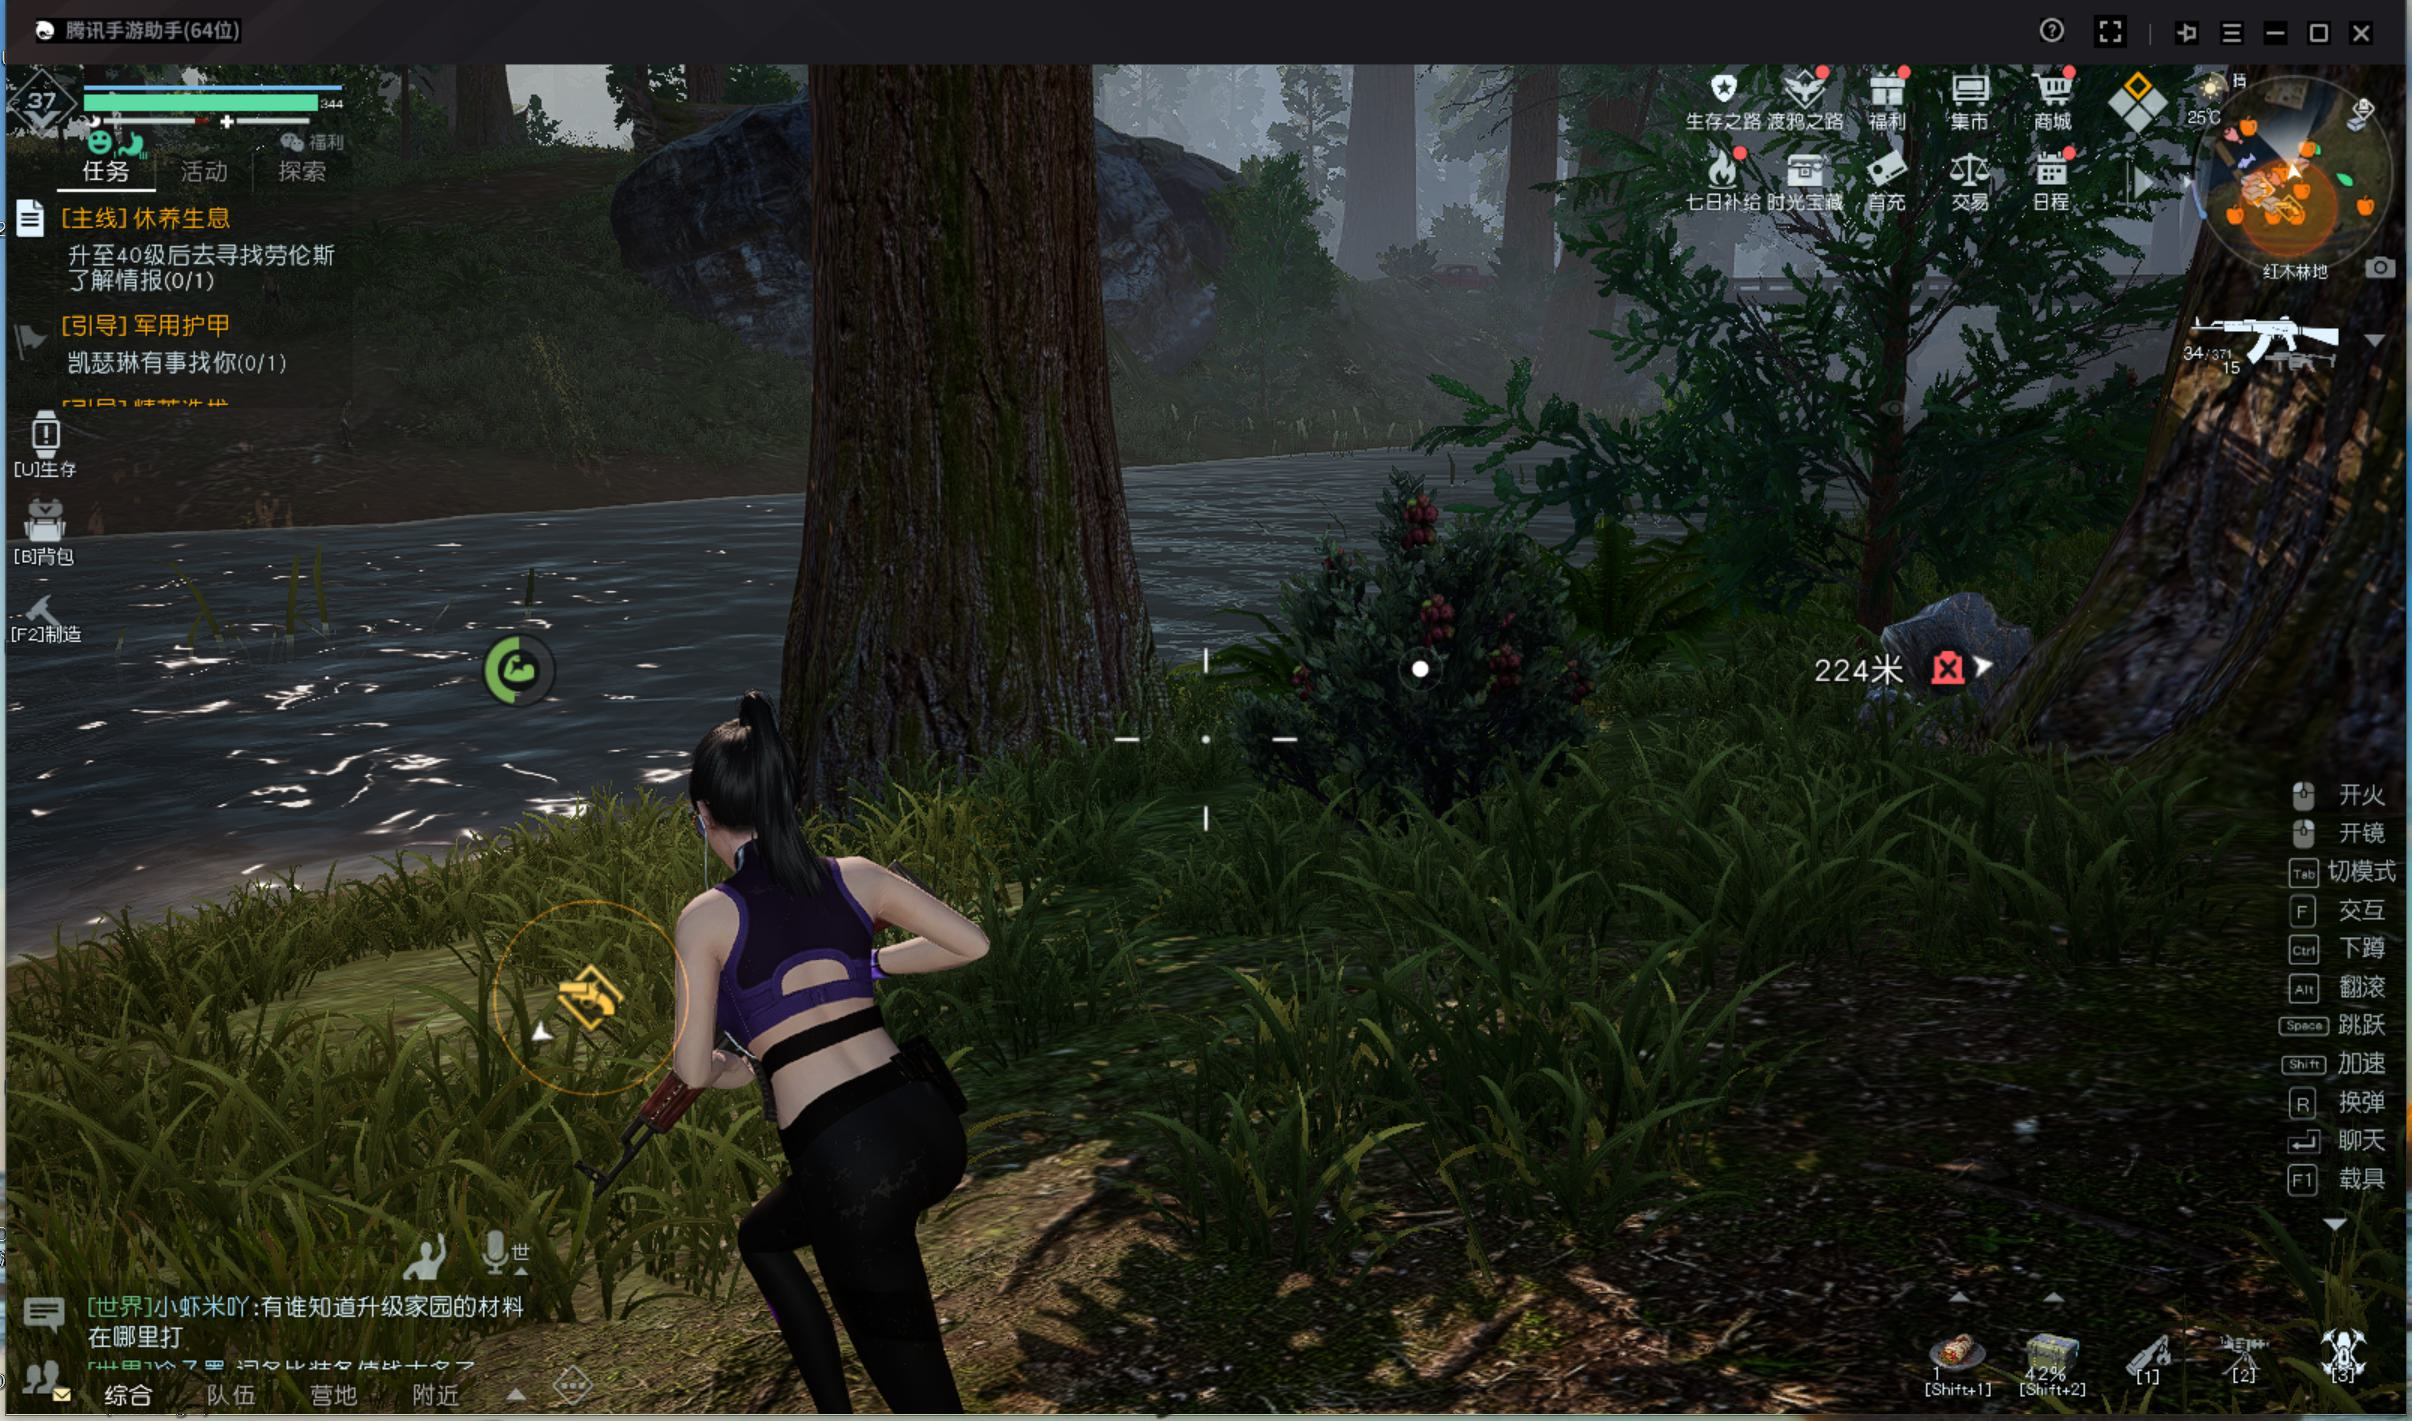stone: (1822, 573, 2003, 732)
tree: (758, 86, 1135, 727), (1485, 91, 1554, 284)
